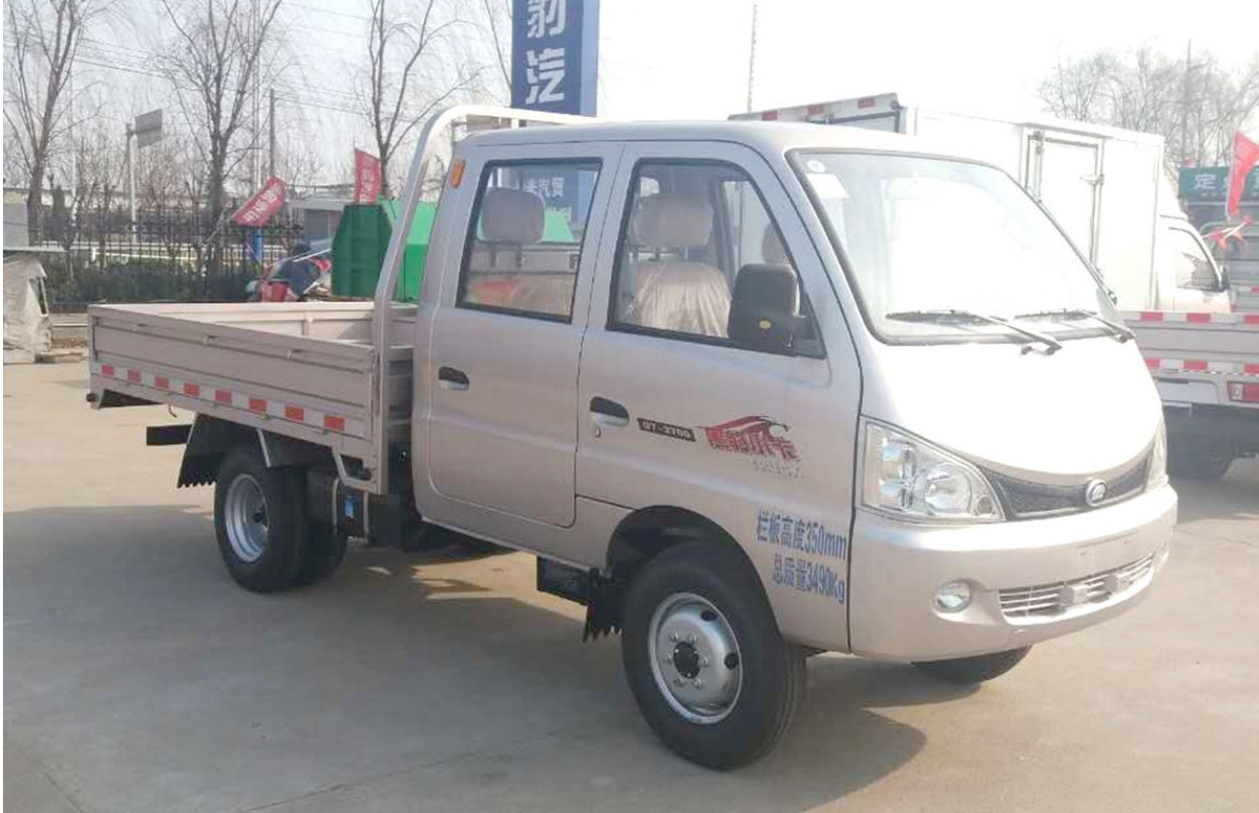truck: (103, 100, 1179, 753)
